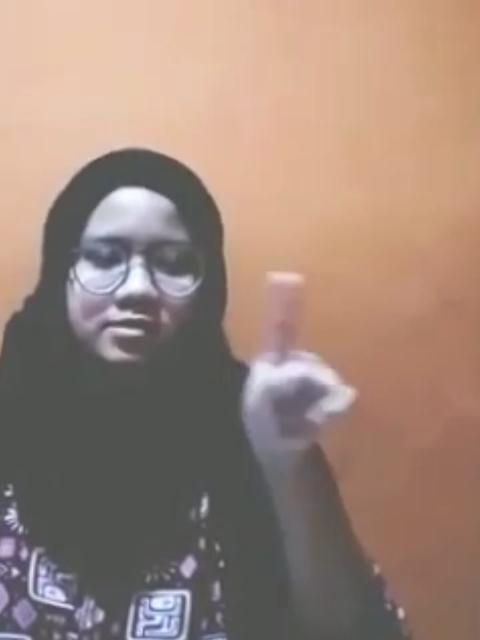Z: (236, 268, 362, 458)
